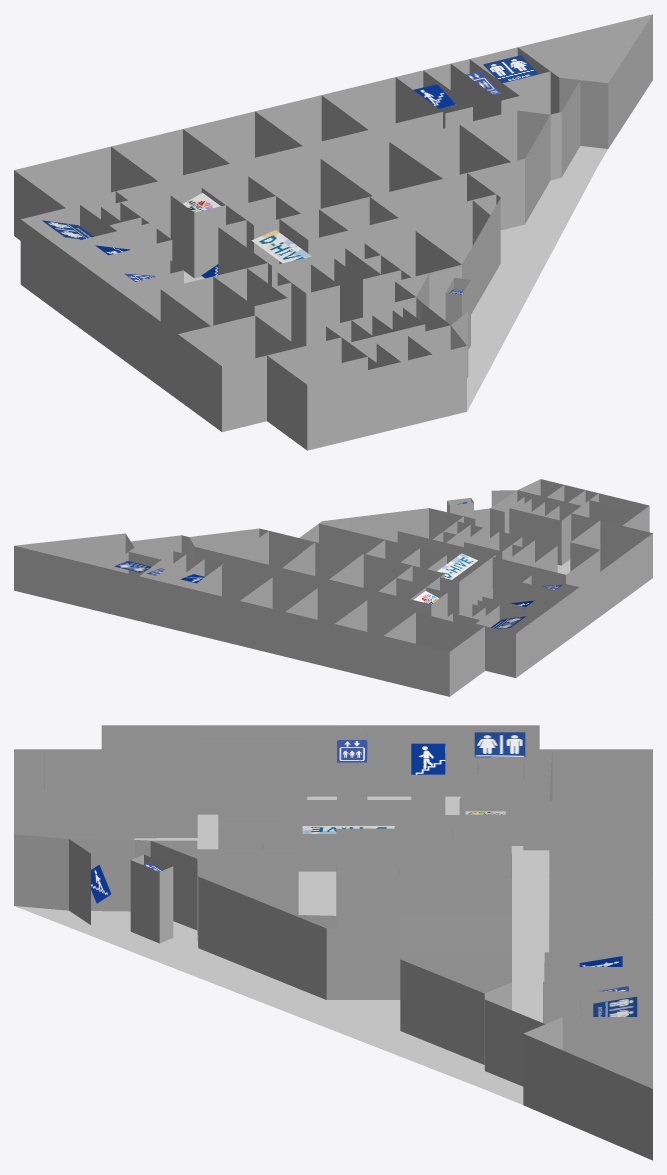
The model's file is piso1.glb.
The picture shows the model from 3 angles, top to bottom: view 1: azimuth 30°, elevation 25°; view 2: azimuth 150°, elevation 25°; view 3: azimuth 270°, elevation 25°; orthographic projection. The views are drawn at different scales.
Parts seen in each view (by area): view 1: Plano.005; view 2: Plano.005; view 3: Plano.005.
Part boxes in pixels (box(x1,y1,x2,y2)): Plano.005: box(14, 14, 652, 450); Plano.005: box(14, 479, 652, 696); Plano.005: box(14, 725, 652, 1160).
Bounding box in the file's own units: 14.21 × 1.32 × 10.55.
Materials: 7 (5 with a texture image).
